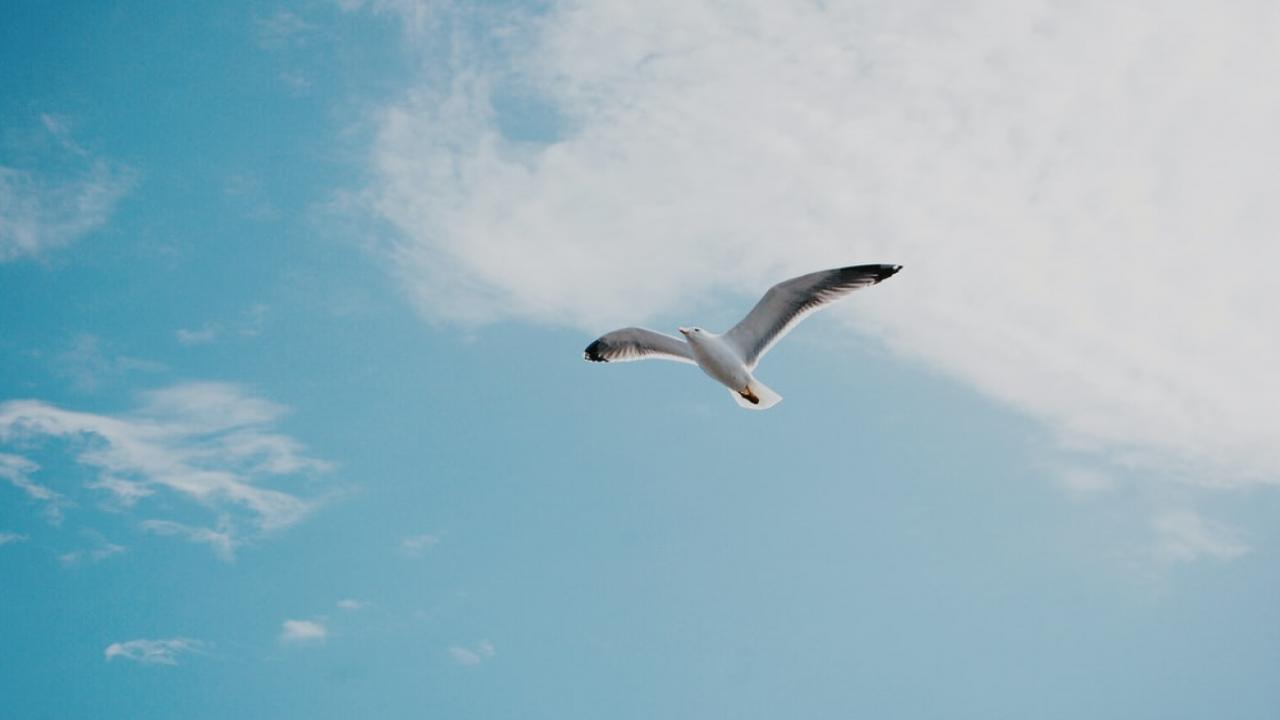Bird: (572, 248, 915, 424)
